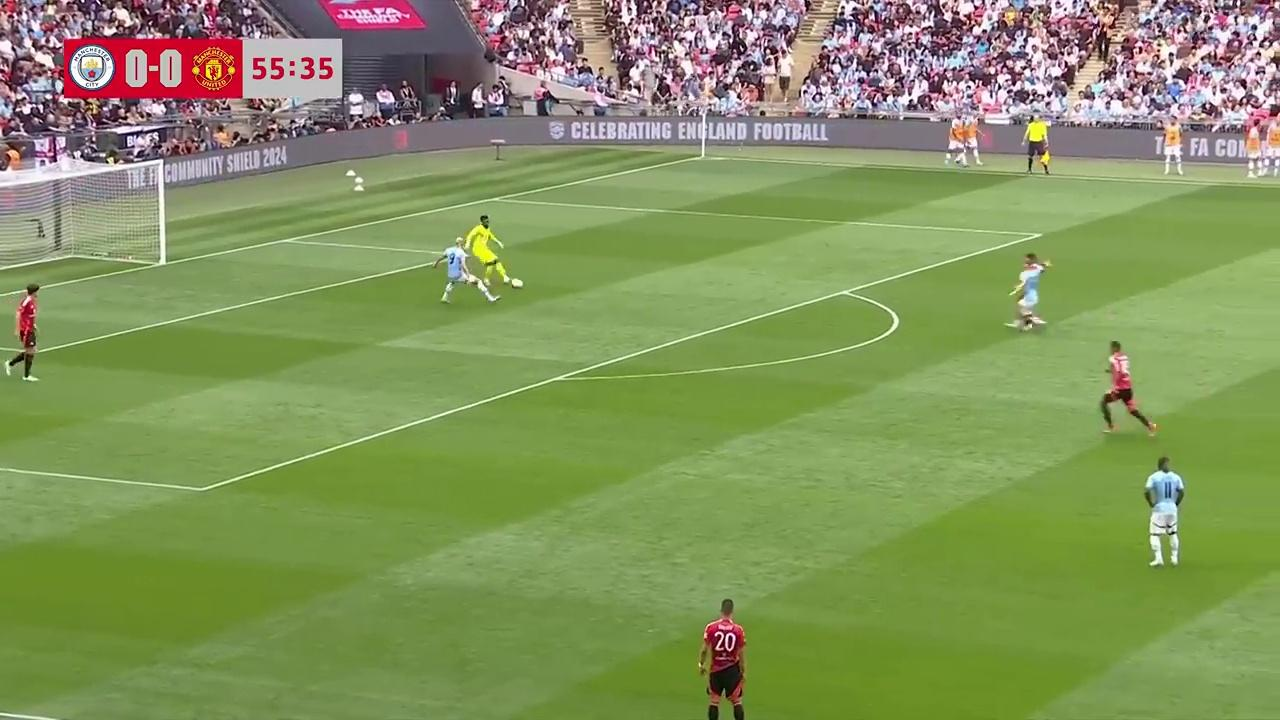ball: (509, 275, 524, 288)
player: (697, 597, 747, 720), (1099, 340, 1159, 436), (1144, 454, 1184, 569), (463, 214, 518, 295), (1008, 253, 1051, 331), (4, 285, 39, 380), (434, 238, 476, 302)
referee: (1024, 118, 1052, 176)
